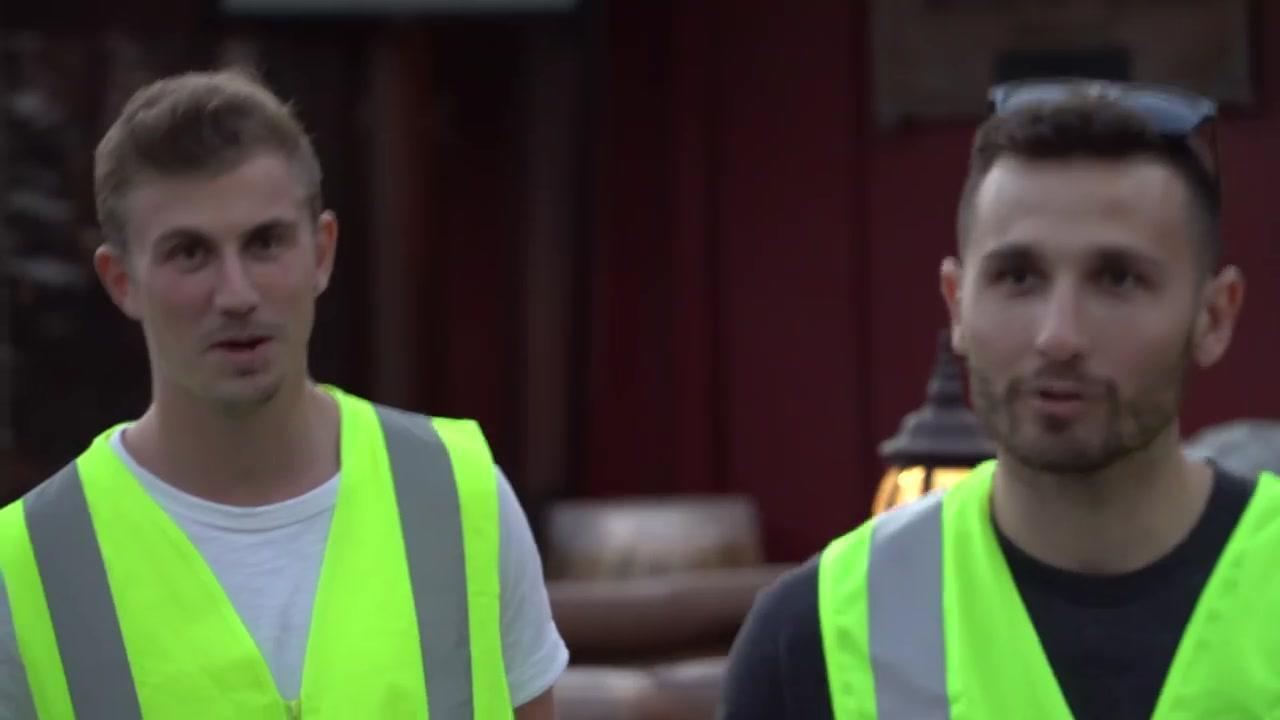vest: (0, 384, 527, 719), (815, 454, 1279, 719)
